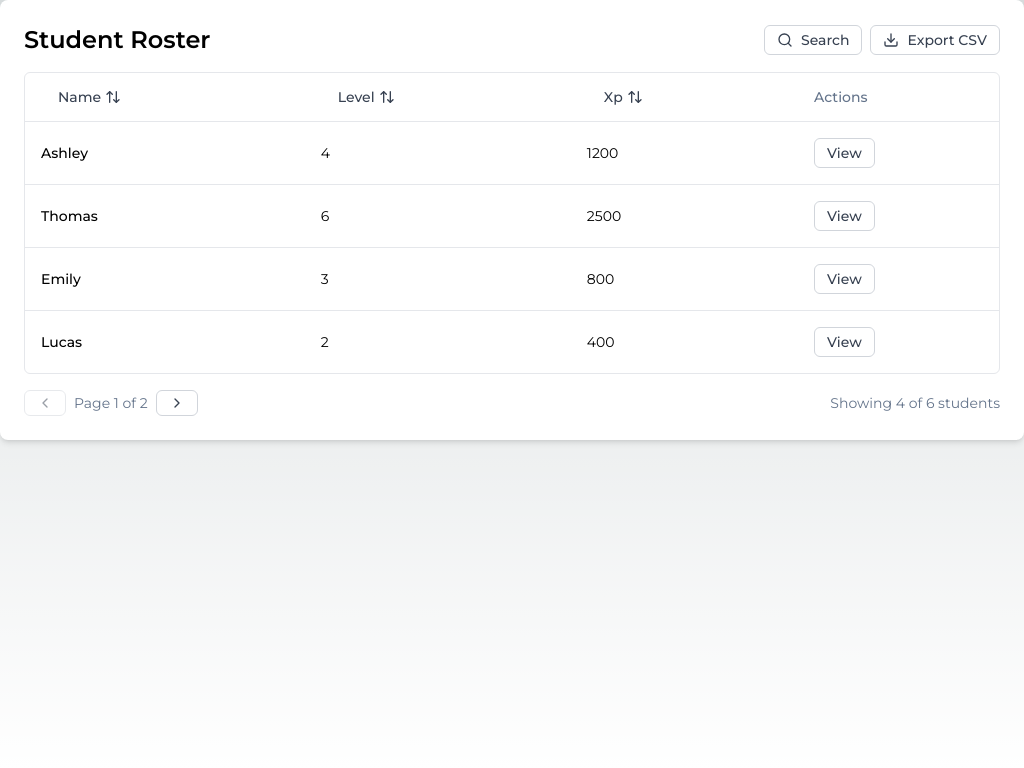
StudentRoster Performance › filters students based on search query
Expected: the text "Ashley" is shown, [25,121,305,184]
Click the button "Search" at (813, 40), box [764,25,862,55]
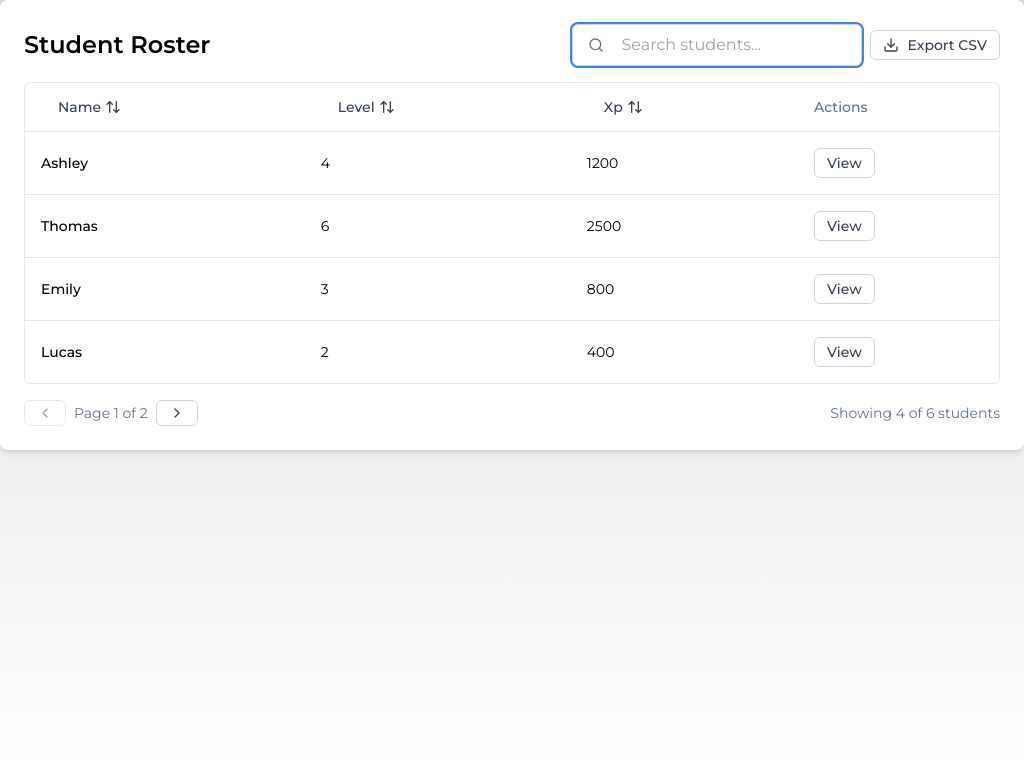
Type "Emily" into the field with placeholder "Search students..." at (718, 45), box [572,24,862,66]
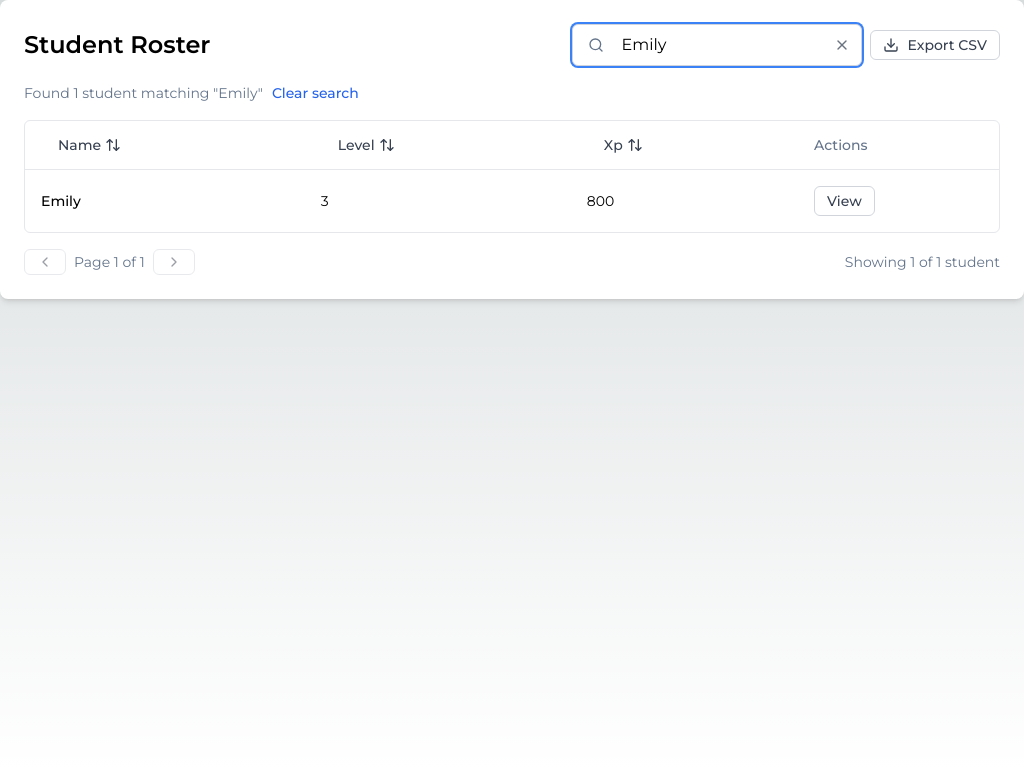
Expected: the text "Emily" is shown, [25,169,305,232]
Expected: the text "Ashley" is gone
